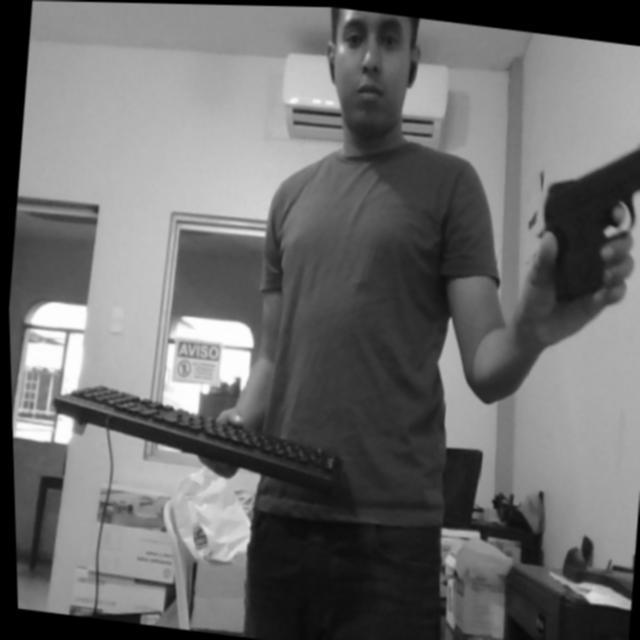weapon: (517, 120, 640, 310)
